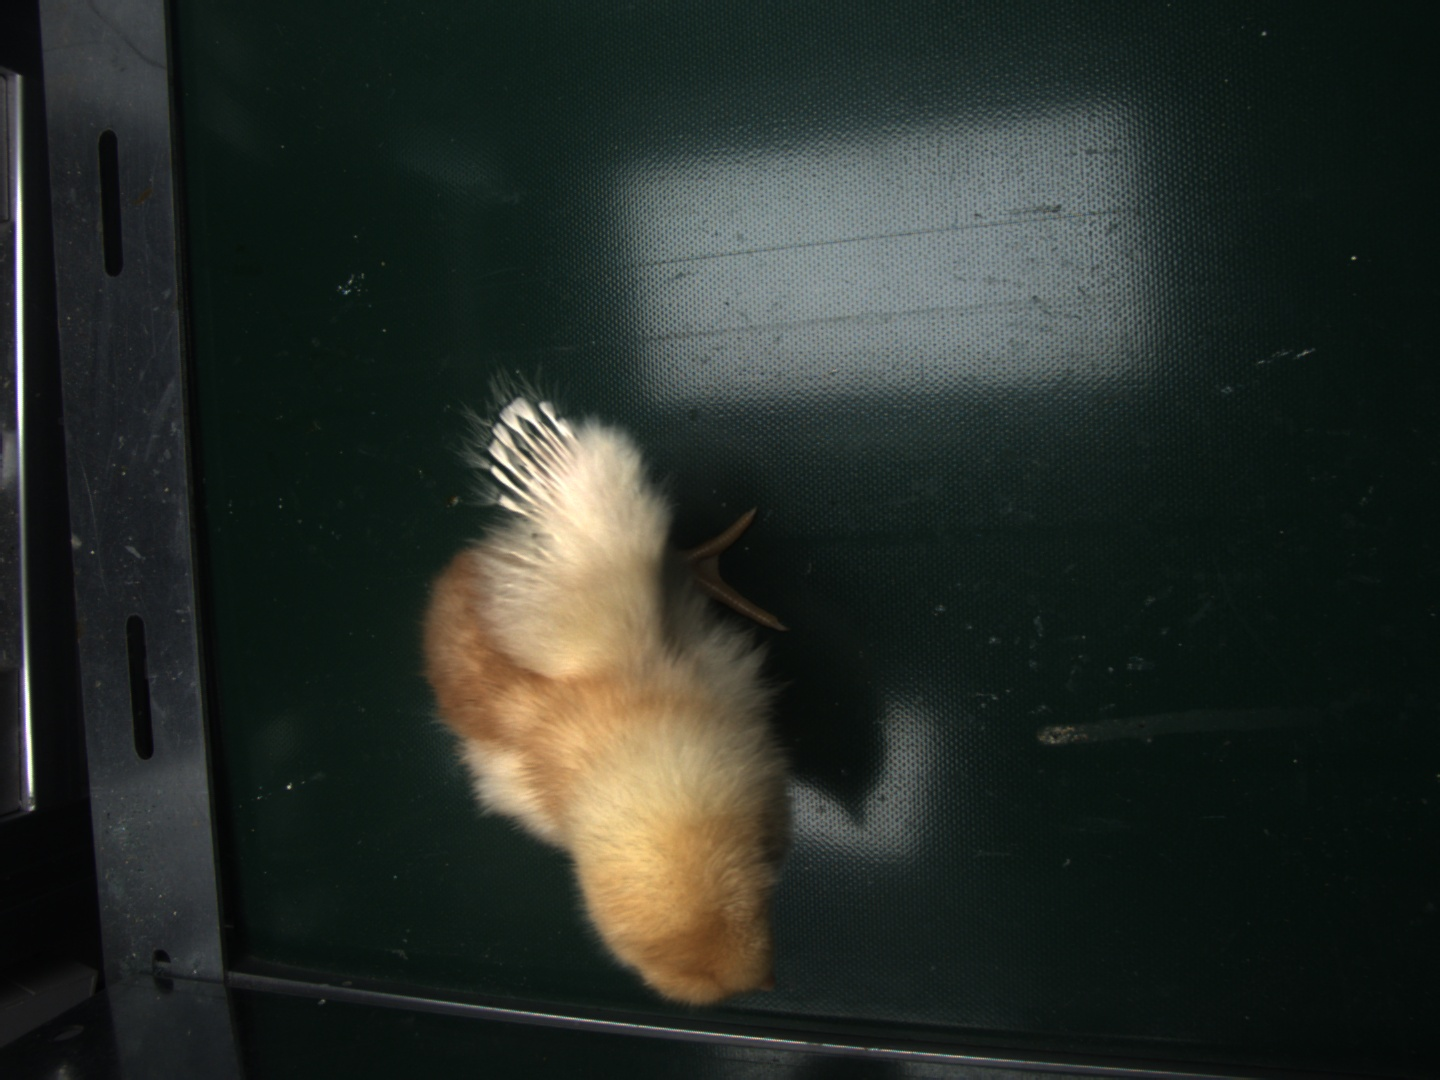female: (486, 397, 579, 518)
